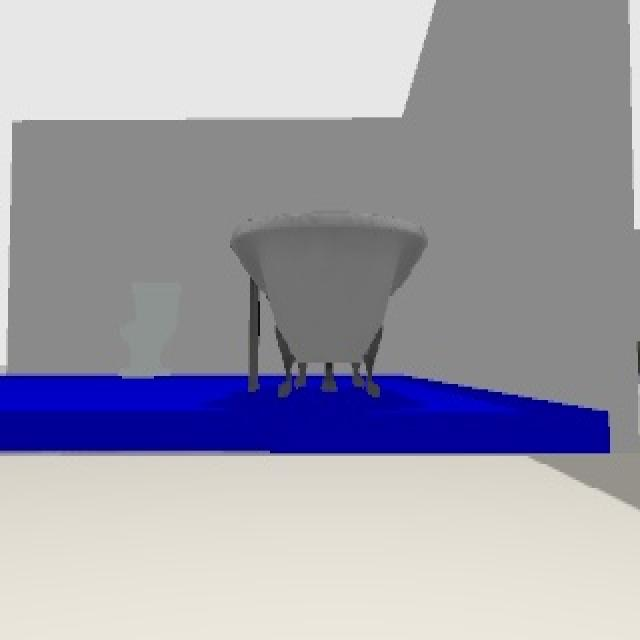bathtub: (230, 214, 431, 398)
